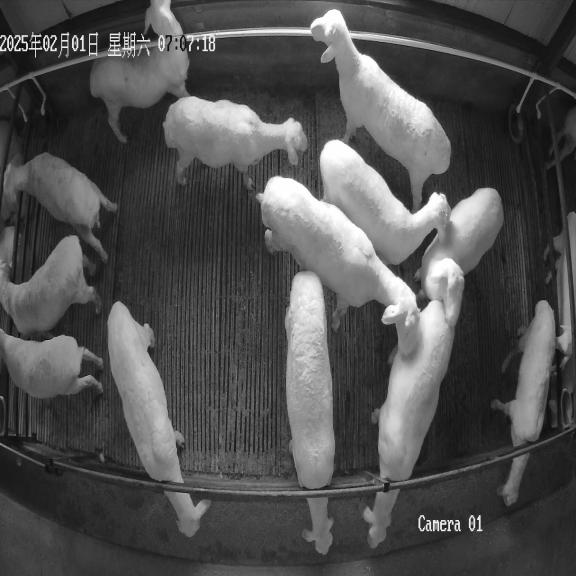eating: (107, 301, 211, 537), (362, 300, 454, 548), (285, 271, 335, 554), (491, 300, 556, 506)
stand: (256, 176, 420, 355), (310, 10, 451, 210), (320, 140, 450, 265), (90, 0, 189, 144), (163, 96, 307, 191), (3, 152, 117, 262), (416, 188, 503, 330), (0, 236, 101, 336), (0, 329, 102, 398)
